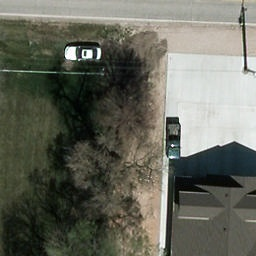car: (64, 47, 101, 60)
pickup: (165, 122, 183, 159)
